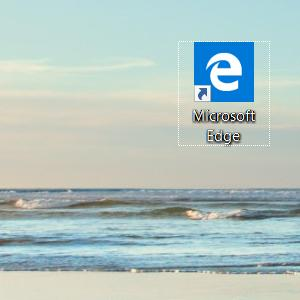edge: (194, 42, 254, 102)
